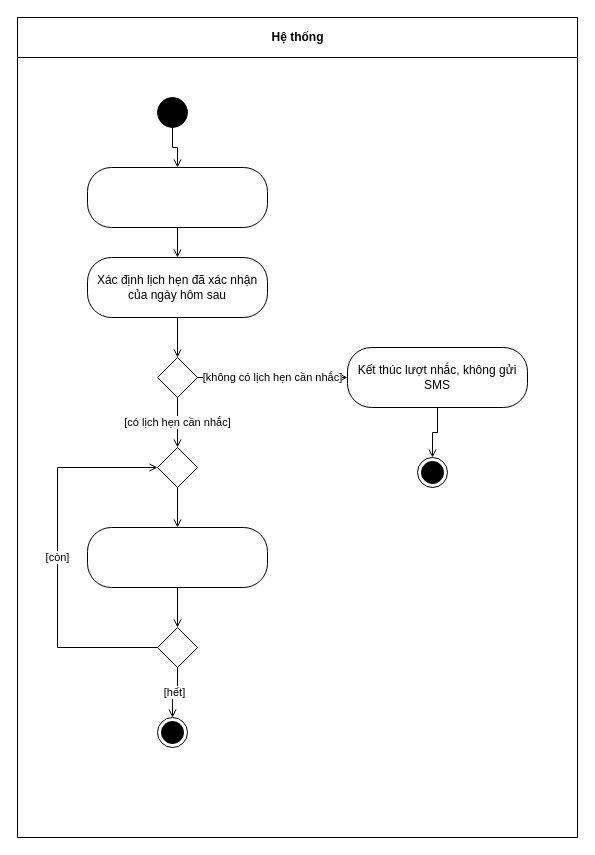
This 595x855 diagram has some shape labels left out. The centre of each missing label's shape, as x and y in pixels:
"Gửi SMS nhắc lịch cho một lịch hẹn qua Cổng SMS" goes at point (177, 557).
"Tới 18 giờ hằng ngày" goes at point (177, 197).
